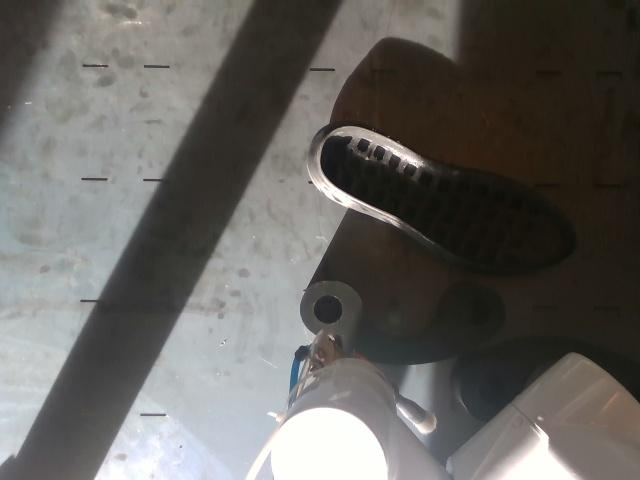shoes: (320, 127, 574, 268)
